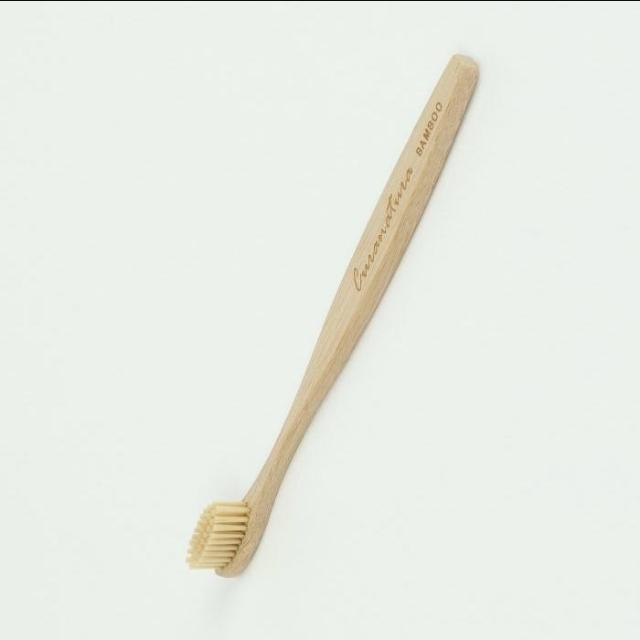toothbrush: (164, 18, 496, 626)
